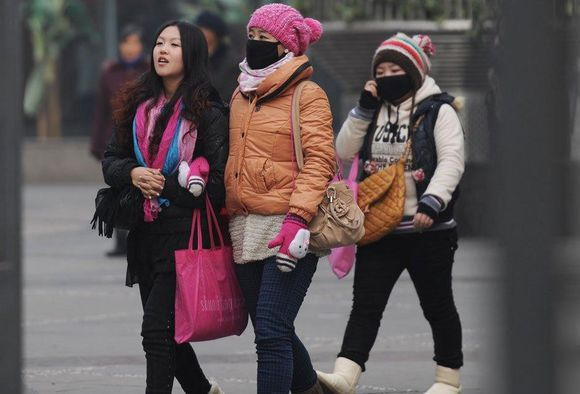face: (152, 27, 186, 77)
face_mask: (246, 26, 279, 64), (375, 59, 407, 96)
